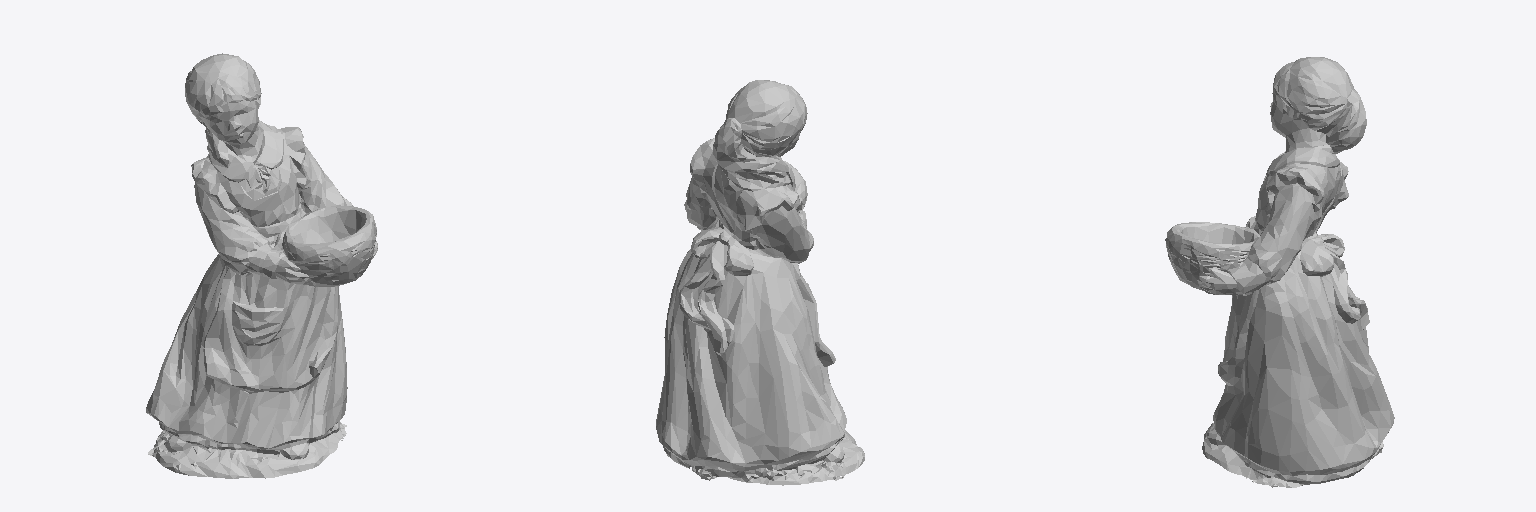
Rendered from statue3_5k.obj.
The picture shows the model from 3 angles: view 1: azimuth 30°, elevation 25°; view 2: azimuth 150°, elevation 25°; view 3: azimuth 270°, elevation 25°; orthographic projection.
Visible parts, largest first — view 1: statue; view 2: statue; view 3: statue.
Boxes of the visible parts, box(x1,y1,x2,y2) form: statue: box(146, 53, 377, 478); statue: box(656, 80, 864, 485); statue: box(1165, 57, 1394, 487).
Bounding box in the file's own units: 1.39 × 2.74 × 1.5.